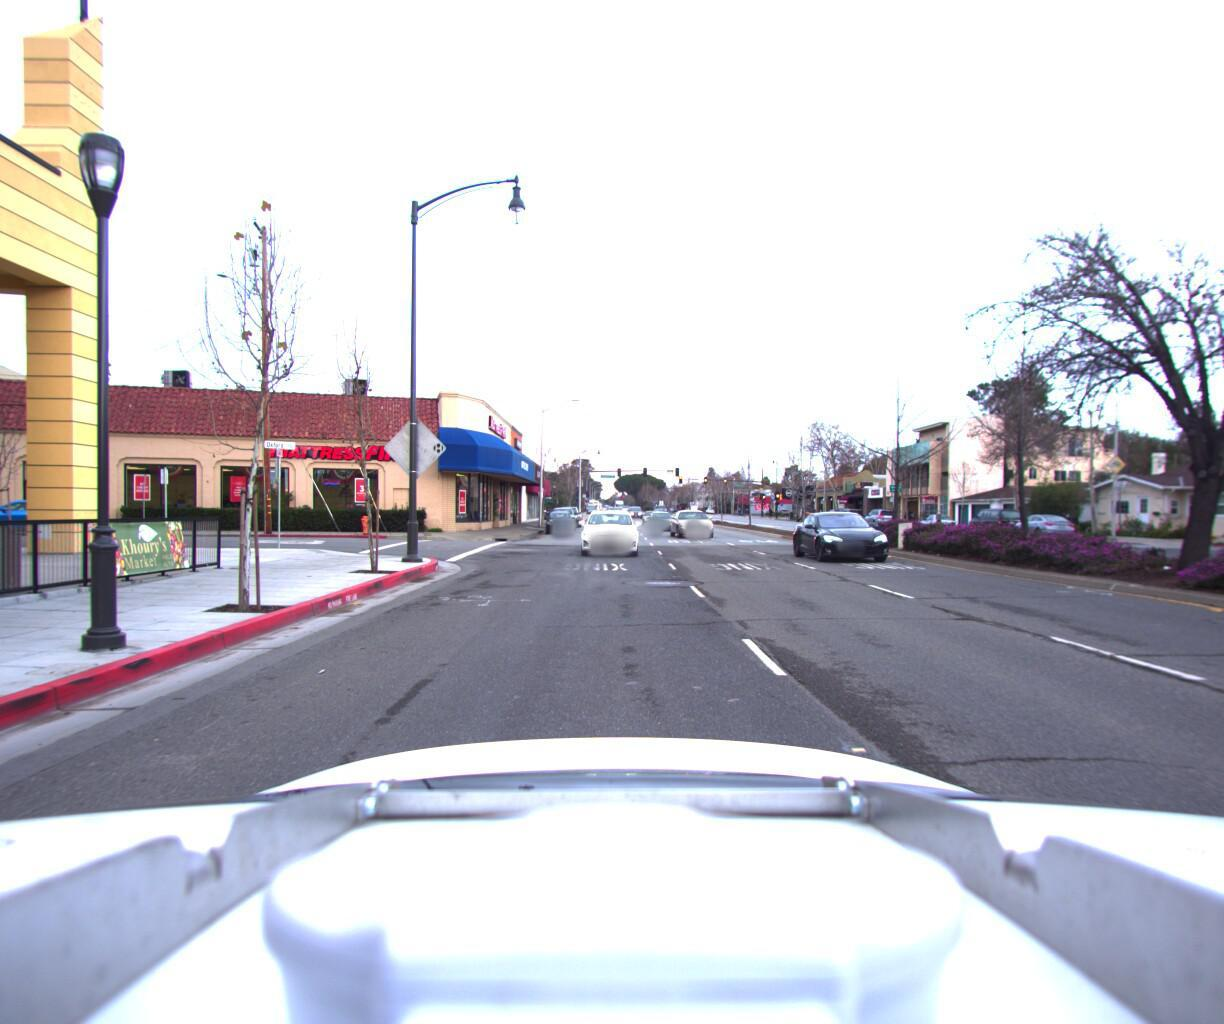car: (798, 505, 922, 564), (570, 499, 644, 556), (0, 495, 103, 535), (1005, 510, 1079, 536), (671, 505, 720, 535), (915, 510, 957, 530), (544, 506, 574, 531), (649, 506, 681, 529)
